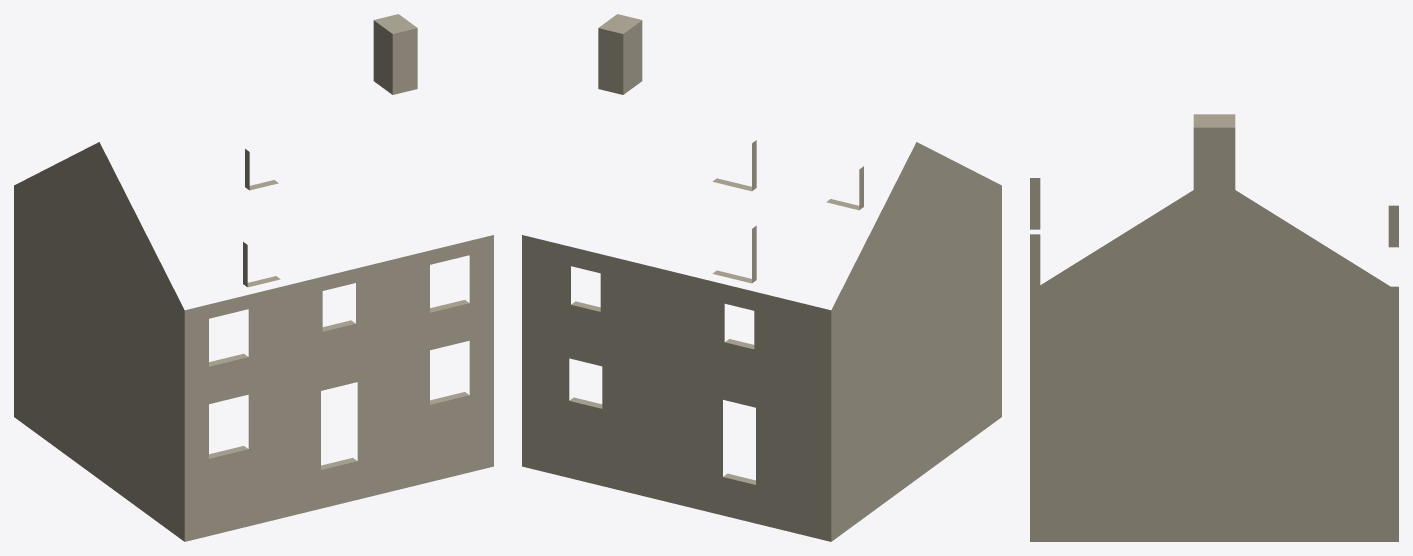
The model's file is SM_Bld_077_Render.glb.
3 views of the same model, side by side, from view 1: azimuth 30°, elevation 25°; view 2: azimuth 150°, elevation 25°; view 3: azimuth 270°, elevation 25° (orthographic). The views are drawn at different scales.
Visible parts, largest first — view 1: SM_Bld_077_Render; view 2: SM_Bld_077_Render; view 3: SM_Bld_077_Render.
Part boxes in pixels (left/top/right/bottom): SM_Bld_077_Render: left=14, top=14, right=493, bottom=541; SM_Bld_077_Render: left=522, top=14, right=1001, bottom=541; SM_Bld_077_Render: left=1030, top=114, right=1398, bottom=541.
Size of the model in its own units: 8.38 by 9.93 by 8.01.
